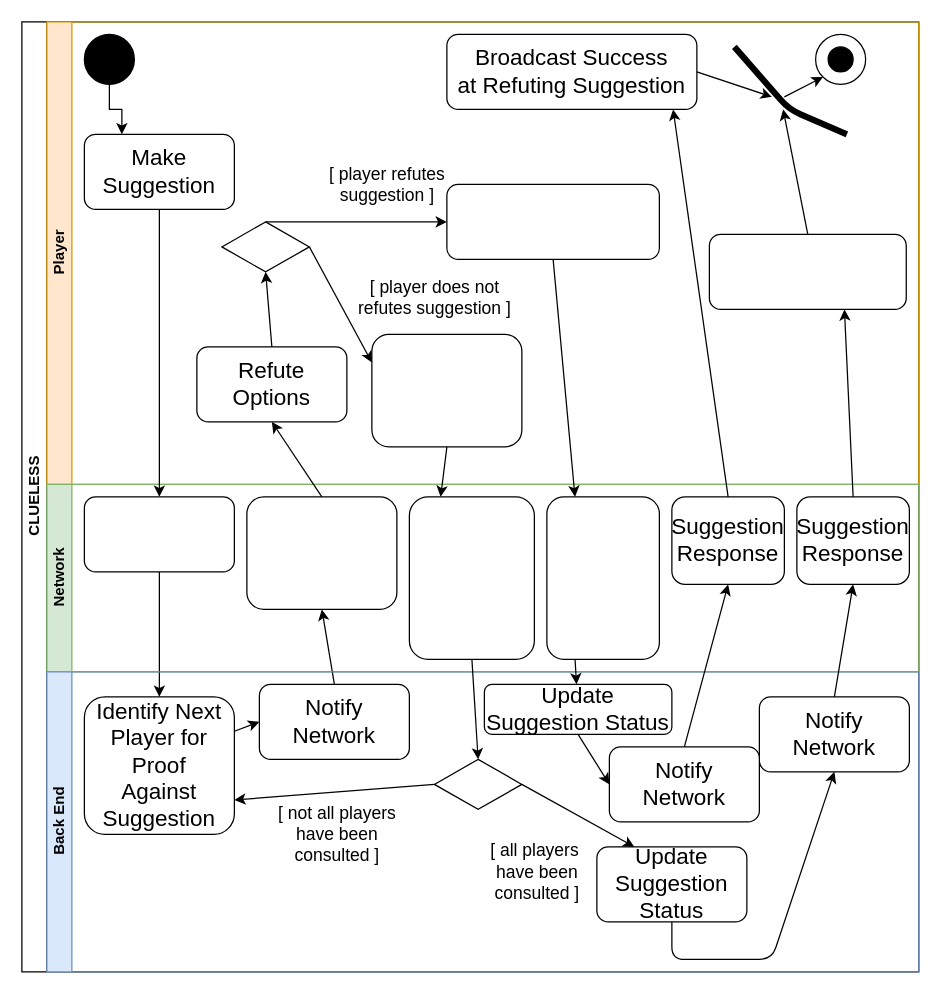
Some shapes in this 941 by 994 pixel diagram are drawn without their labels. The centre of each missing label's shape, as x and y in pixels:
Broadcast Failure to Refute Suggestion: the point at 807,271
Broadcast that Suggestion was Refuted: the point at 552,221
Next Player Refute Suggestion Request: the point at 321,552
Player Failed to Refute Suggestion Response: the point at 471,577
Player Refuted Suggestion Response: the point at 602,577
Player Suggestion Request: the point at 158,534
Select not to Refute: the point at 446,390
